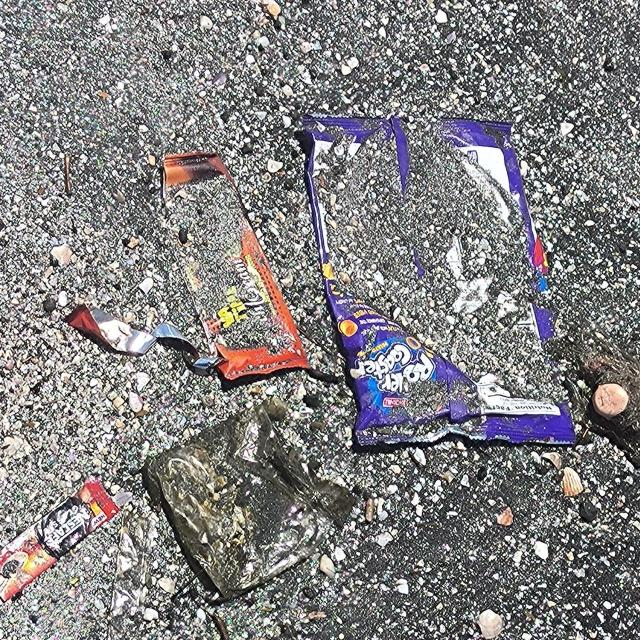plastic_waste: (301, 113, 581, 449), (162, 151, 315, 381), (1, 479, 122, 603), (64, 304, 159, 359)
